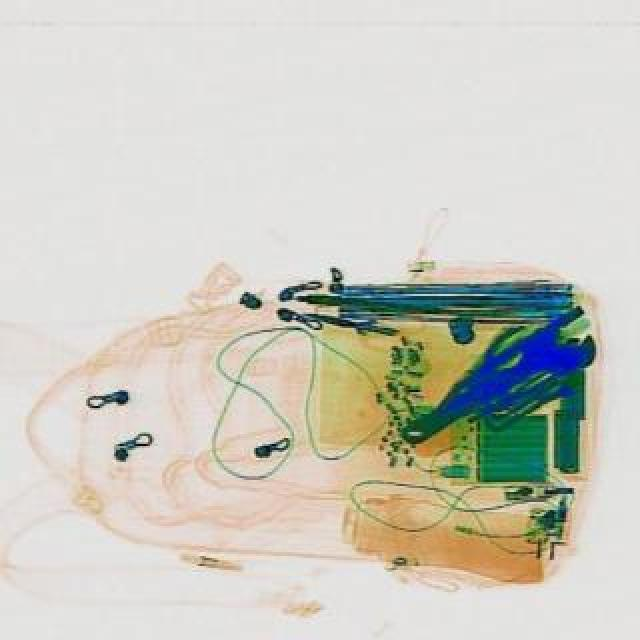scissors: (384, 310, 602, 454)
